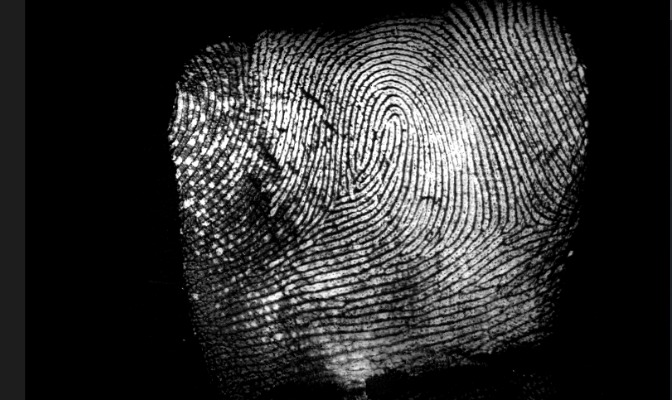deltas: (496, 198, 549, 240)
nucleo: (368, 103, 414, 147)
